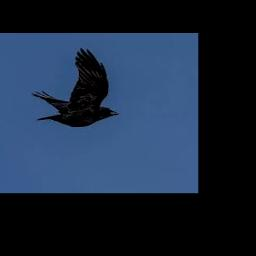Crow: (32, 48, 119, 126)
